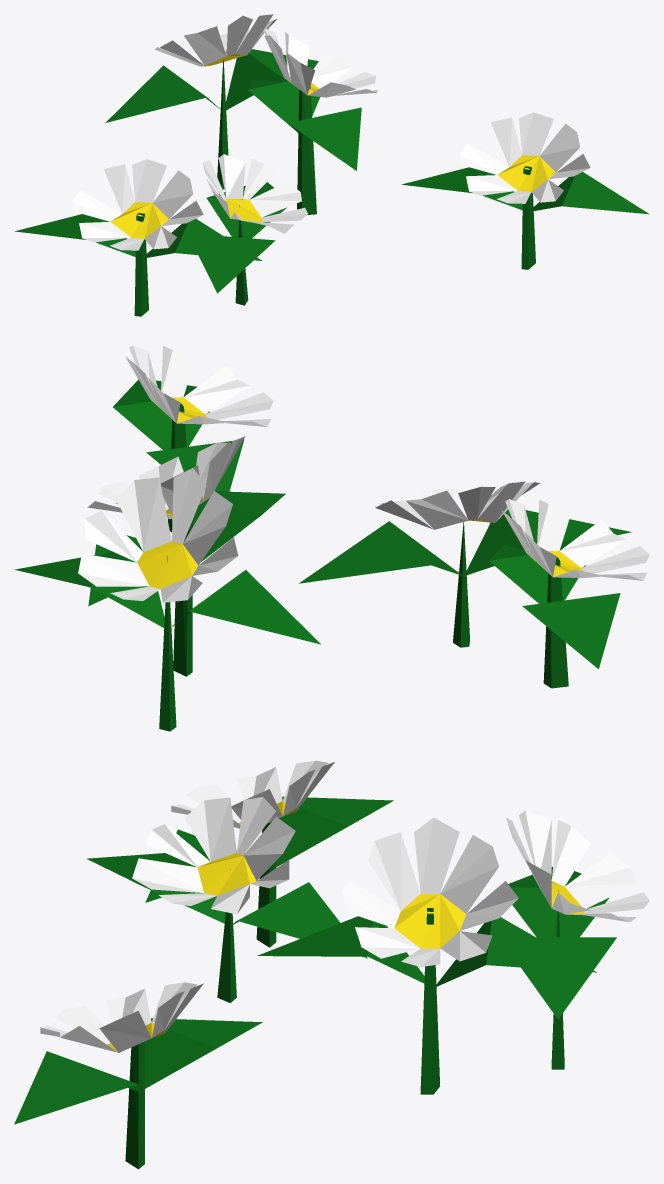
Rendered from obj_daisies_0.obj.
3 renders of one model, top to bottom at view 1: azimuth 30°, elevation 25°; view 2: azimuth 150°, elevation 25°; view 3: azimuth 270°, elevation 25°, orthographic. The views are drawn at different scales.
Size of the model in its own units: 0.9141 by 0.3281 by 0.7578.
